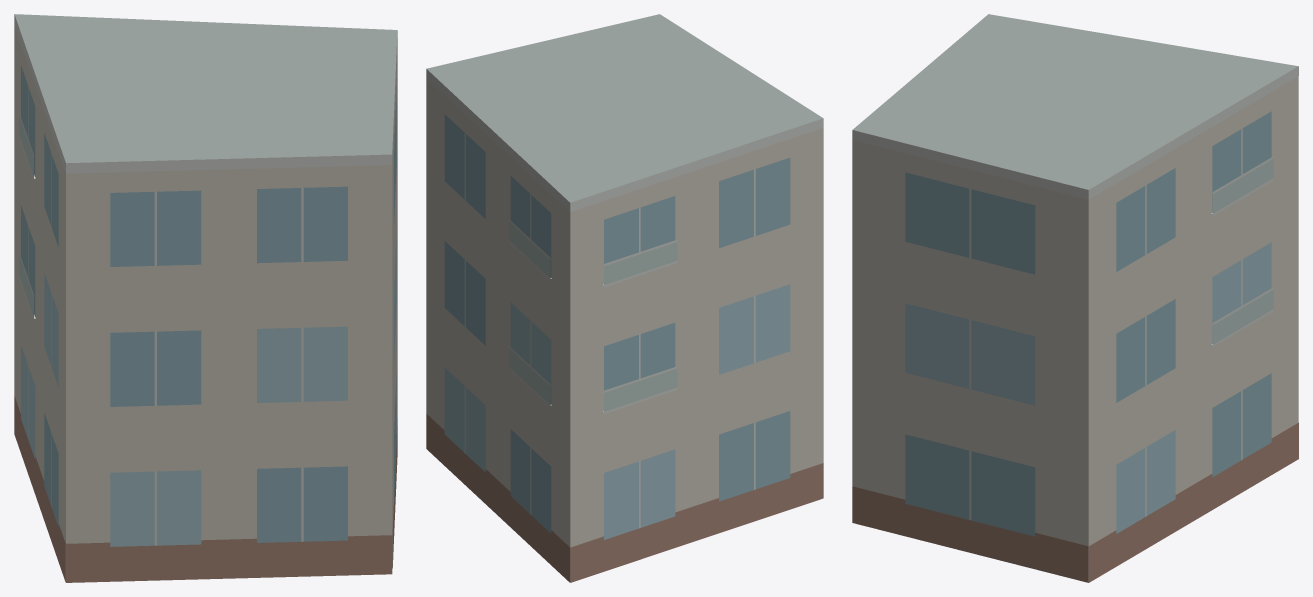
The model's file is survey-upis-33009506.glb.
The picture shows the model from 3 angles, left to right: view 1: azimuth 30°, elevation 25°; view 2: azimuth 150°, elevation 25°; view 3: azimuth 270°, elevation 25°; orthographic projection. The views are drawn at different scales.
Visible parts, largest first — view 1: survey-upis-33009506.tmp; view 2: survey-upis-33009506.tmp; view 3: survey-upis-33009506.tmp.
Boxes of the visible parts, x1,y1,x2,y2 form: survey-upis-33009506.tmp: [14, 14, 397, 582]; survey-upis-33009506.tmp: [426, 14, 823, 582]; survey-upis-33009506.tmp: [852, 14, 1298, 582].
Bounding box in the file's own units: 9.42 × 9.8 × 10.1.
